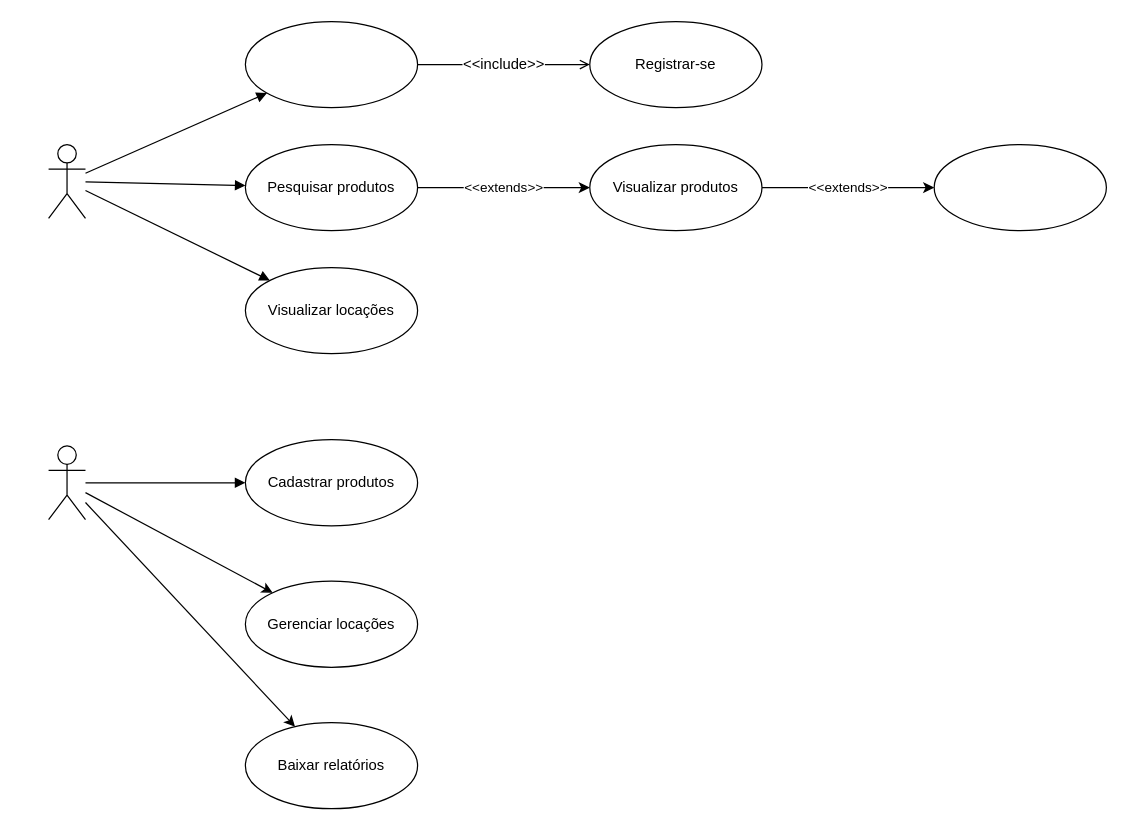
This 1128x830 diagram has some shape labels left out. The centre of each missing label's shape, as x and y in pixels:
Administrador: pixel 66 482
Alugar produtos: pixel 1019 187
Fazer login: pixel 331 64
Usuário: pixel 66 180
